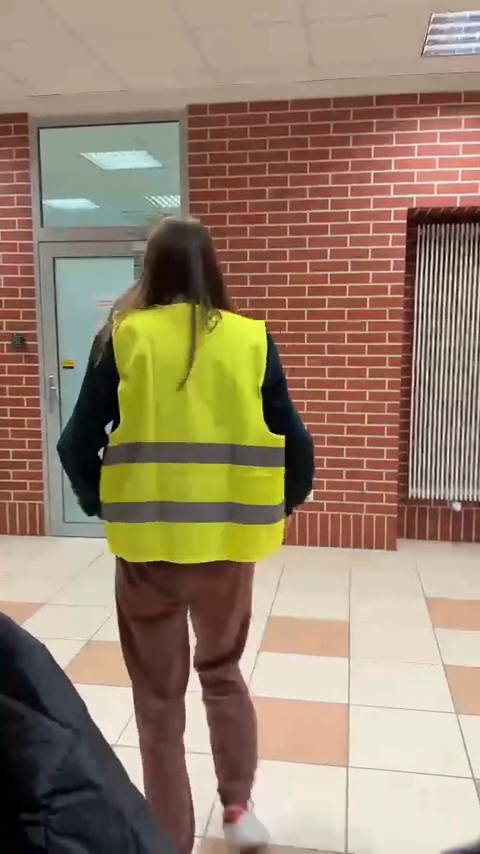vest: (56, 212, 324, 854)
